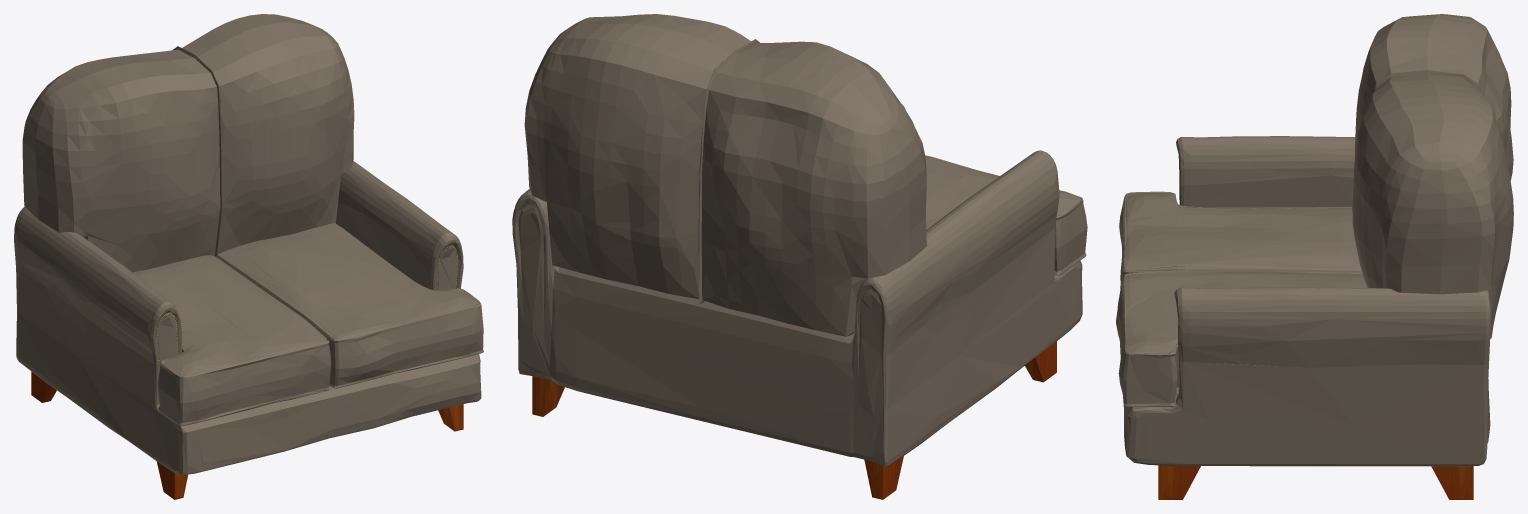
File: sh-scopia-leather-sofa.glb
3 renders of one model, left to right at view 1: azimuth 30°, elevation 25°; view 2: azimuth 150°, elevation 25°; view 3: azimuth 270°, elevation 25°, orthographic. The views are drawn at different scales.
Visible parts, largest first — view 1: left_cushion_Cube.002, cubeleg4_Cube.010; view 2: left_cushion_Cube.002, cubeleg4_Cube.010; view 3: left_cushion_Cube.002, cubeleg4_Cube.010.
Part boxes in pixels (x1=…): left_cushion_Cube.002: x1=14, y1=14, x2=483, y2=475; cubeleg4_Cube.010: x1=31, y1=371, x2=463, y2=499; left_cushion_Cube.002: x1=512, y1=14, x2=1087, y2=466; cubeleg4_Cube.010: x1=532, y1=341, x2=1056, y2=499; left_cushion_Cube.002: x1=1116, y1=14, x2=1513, y2=466; cubeleg4_Cube.010: x1=1158, y1=465, x2=1473, y2=499.
Size of the model in its own units: 0.9995 by 0.9996 by 1.
3 materials, 1 textured.
